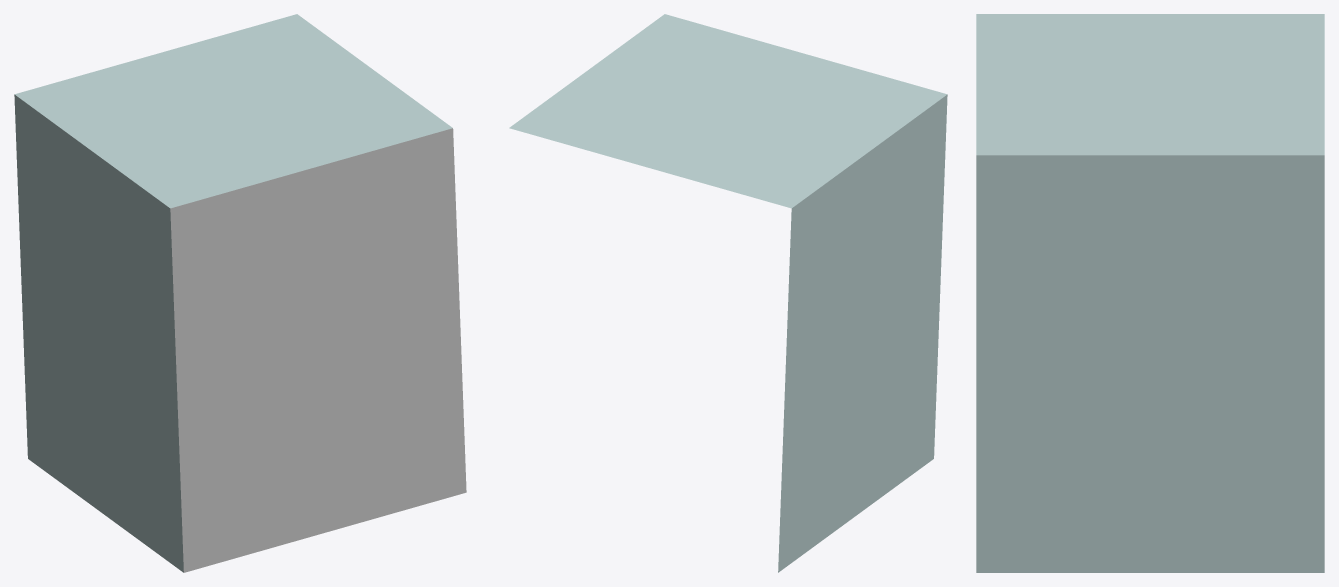
3 renders of one model, left to right at view 1: azimuth 30°, elevation 25°; view 2: azimuth 150°, elevation 25°; view 3: azimuth 270°, elevation 25°, orthographic. The views are drawn at different scales.
Parts seen in each view (by area): view 1: 0_3_2_1_2_0_3_2_1; view 2: 0_3_2_1_2_0_3_2_1; view 3: 0_3_2_1_2_0_3_2_1.
Part boxes in pixels (bbox=[...]): 0_3_2_1_2_0_3_2_1: bbox=[14, 14, 466, 572]; 0_3_2_1_2_0_3_2_1: bbox=[509, 14, 947, 572]; 0_3_2_1_2_0_3_2_1: bbox=[976, 14, 1324, 572].
Size of the model in its own units: 3.29 by 4.02 by 3.
